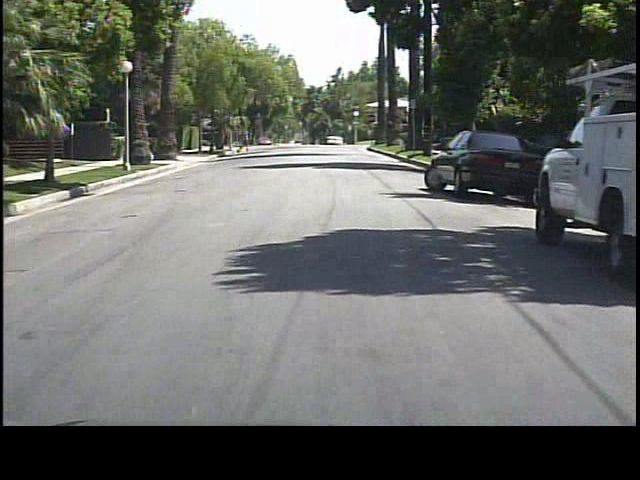person: (240, 129, 253, 157)
